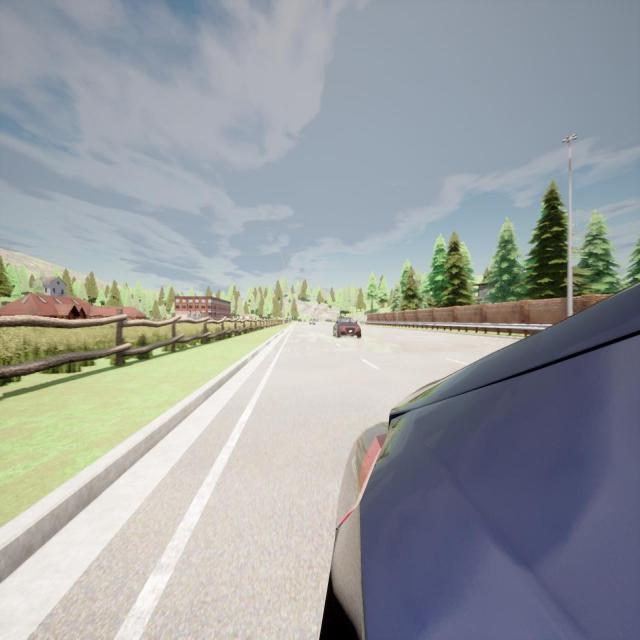Vehicle: (322, 284, 640, 637), (332, 317, 362, 339), (309, 318, 316, 325), (298, 318, 302, 322), (304, 319, 306, 322)
